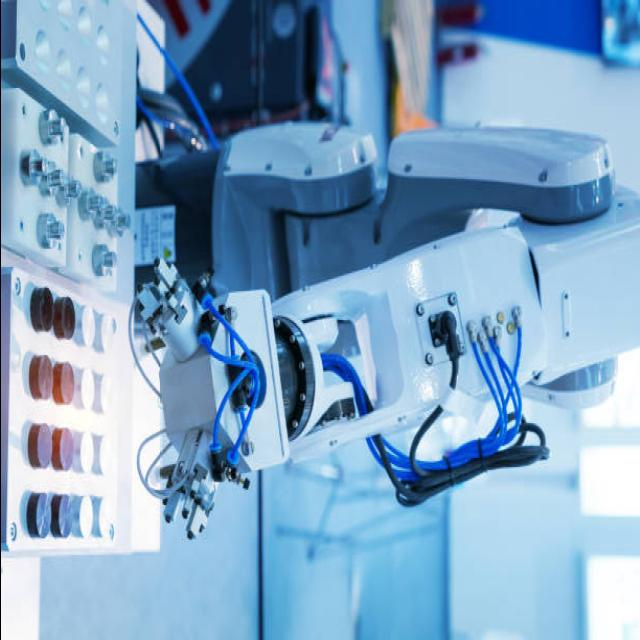Robotic-arm: (131, 100, 640, 529)
